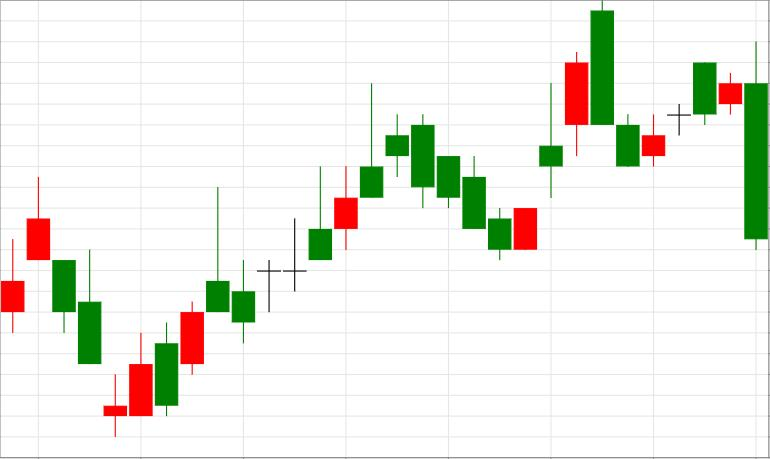shooting_star_fall: (104, 84, 383, 437), (104, 165, 332, 437), (103, 187, 229, 438)
